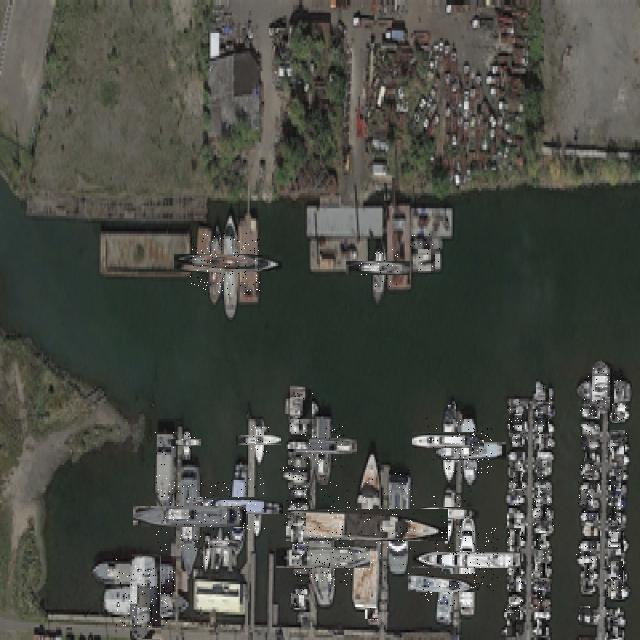boat: (318, 477, 415, 574), (156, 483, 223, 551), (435, 528, 498, 592), (199, 233, 260, 295), (116, 568, 175, 628), (294, 528, 352, 586), (210, 478, 265, 533), (386, 470, 411, 571), (190, 237, 239, 286), (91, 556, 173, 582), (446, 428, 492, 474), (421, 560, 467, 606), (154, 426, 176, 516), (426, 418, 470, 463), (301, 424, 344, 467), (359, 248, 398, 288), (584, 368, 622, 407), (429, 495, 467, 531), (286, 388, 316, 417), (245, 425, 272, 454), (204, 530, 231, 557), (414, 245, 439, 271), (410, 234, 443, 249), (280, 465, 307, 480), (608, 432, 627, 452), (200, 531, 210, 569), (177, 432, 196, 452), (608, 531, 626, 551), (533, 382, 552, 400), (579, 416, 600, 432), (578, 490, 596, 508), (607, 579, 625, 597), (532, 500, 550, 518), (534, 414, 552, 432), (502, 616, 520, 634), (288, 523, 306, 541), (609, 462, 626, 480), (606, 549, 624, 566), (608, 564, 626, 581), (532, 559, 550, 576), (535, 399, 553, 416), (506, 514, 523, 532), (574, 551, 597, 564), (610, 404, 627, 421), (576, 536, 600, 548), (285, 437, 309, 449), (532, 518, 554, 531), (284, 513, 306, 526), (610, 448, 627, 464), (253, 500, 261, 534), (578, 478, 600, 490), (532, 445, 554, 457), (501, 605, 523, 617), (286, 498, 308, 510), (221, 531, 229, 564), (286, 452, 306, 465), (580, 463, 596, 479), (607, 609, 623, 625), (535, 432, 551, 448), (508, 415, 524, 431), (507, 529, 523, 545), (507, 575, 523, 591), (579, 404, 600, 416), (581, 434, 600, 447), (533, 475, 552, 488), (606, 622, 621, 638), (509, 461, 525, 476), (507, 560, 523, 575), (289, 418, 305, 433), (578, 607, 593, 622), (535, 460, 550, 475), (290, 593, 305, 608), (609, 493, 623, 508), (609, 508, 623, 523), (534, 548, 549, 562), (535, 488, 550, 502), (504, 490, 525, 500), (506, 503, 523, 515), (530, 579, 550, 589), (609, 478, 623, 492), (582, 564, 596, 578), (534, 620, 548, 634), (534, 534, 548, 548), (510, 473, 524, 487), (288, 485, 307, 495), (510, 433, 524, 446), (580, 508, 598, 518), (506, 447, 524, 457), (533, 607, 550, 617), (584, 448, 597, 461), (607, 522, 620, 535), (583, 522, 596, 535), (508, 400, 521, 413), (508, 547, 521, 560), (292, 541, 305, 554), (534, 592, 548, 604), (293, 582, 307, 594), (507, 592, 523, 602), (366, 607, 378, 620), (582, 578, 594, 590), (447, 396, 455, 404), (592, 614, 600, 620), (603, 566, 610, 572)
